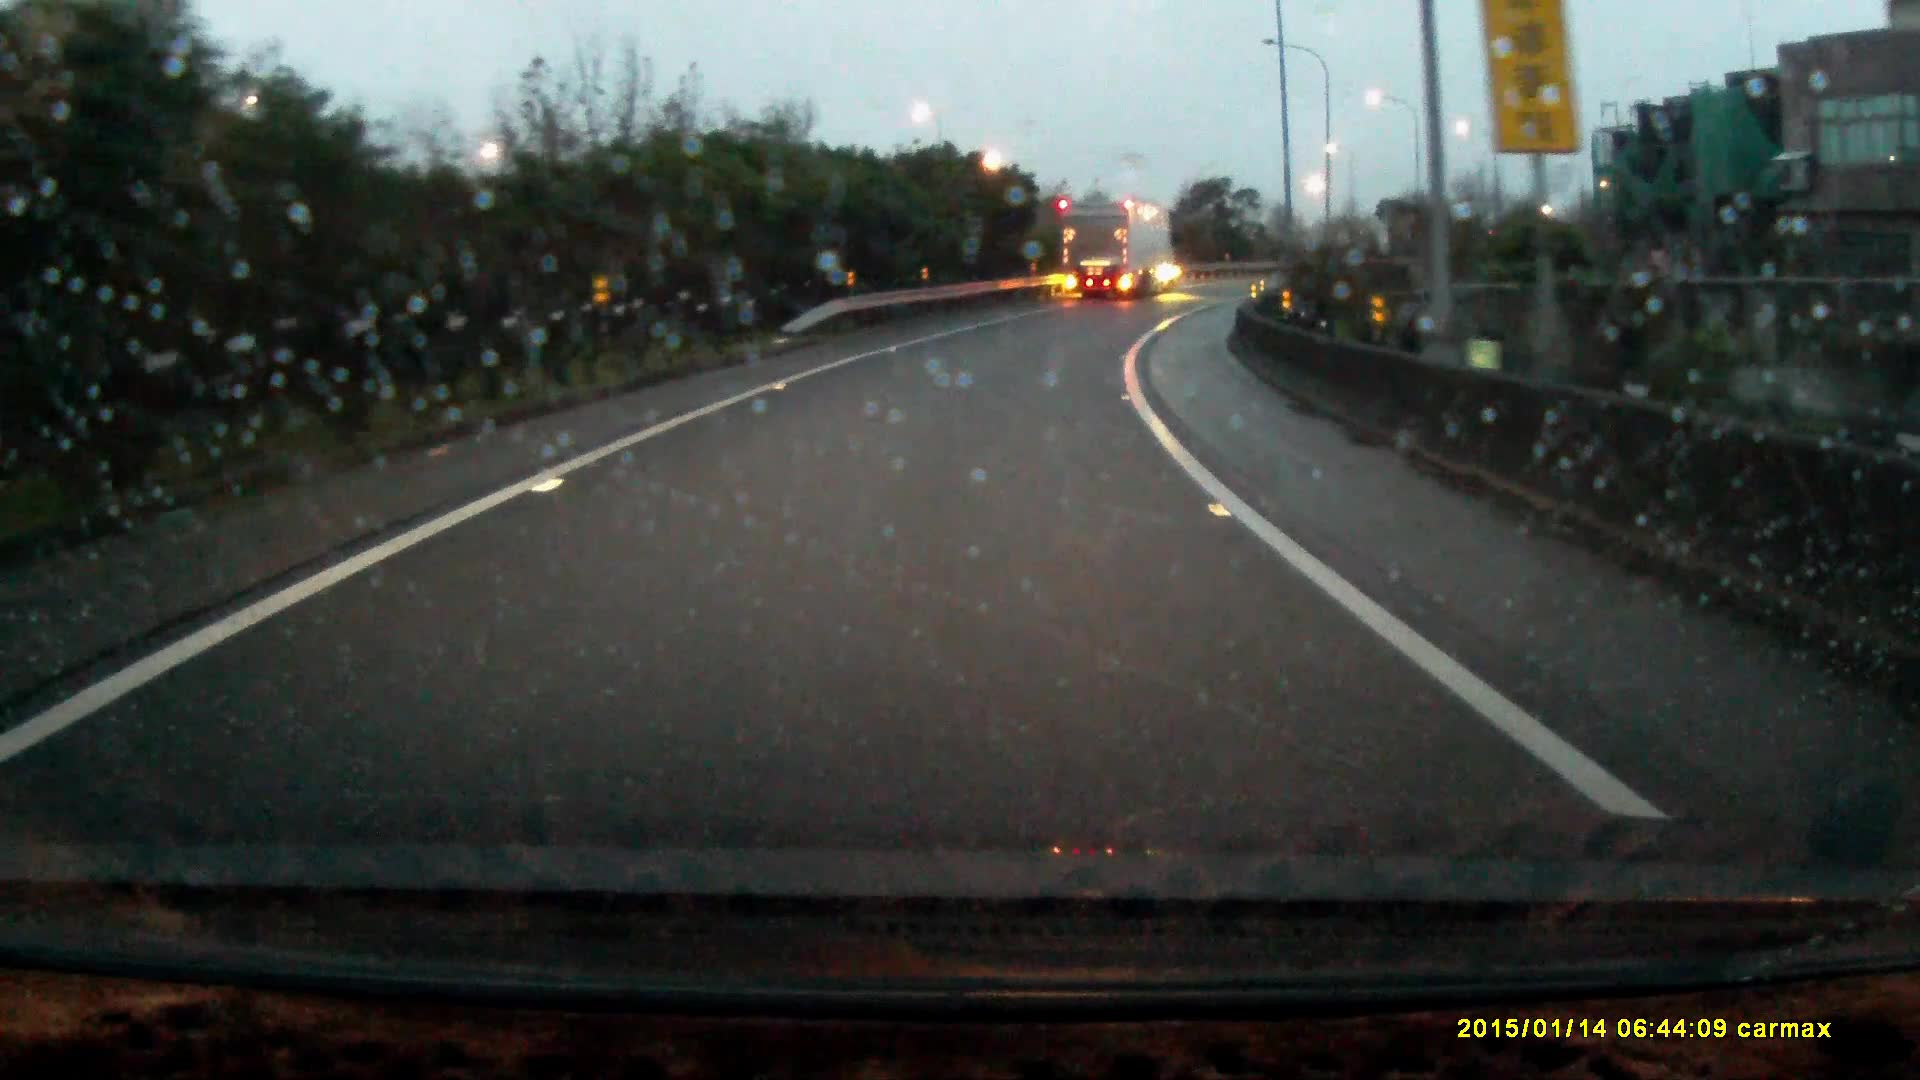vehicle: (1063, 196, 1185, 299)
